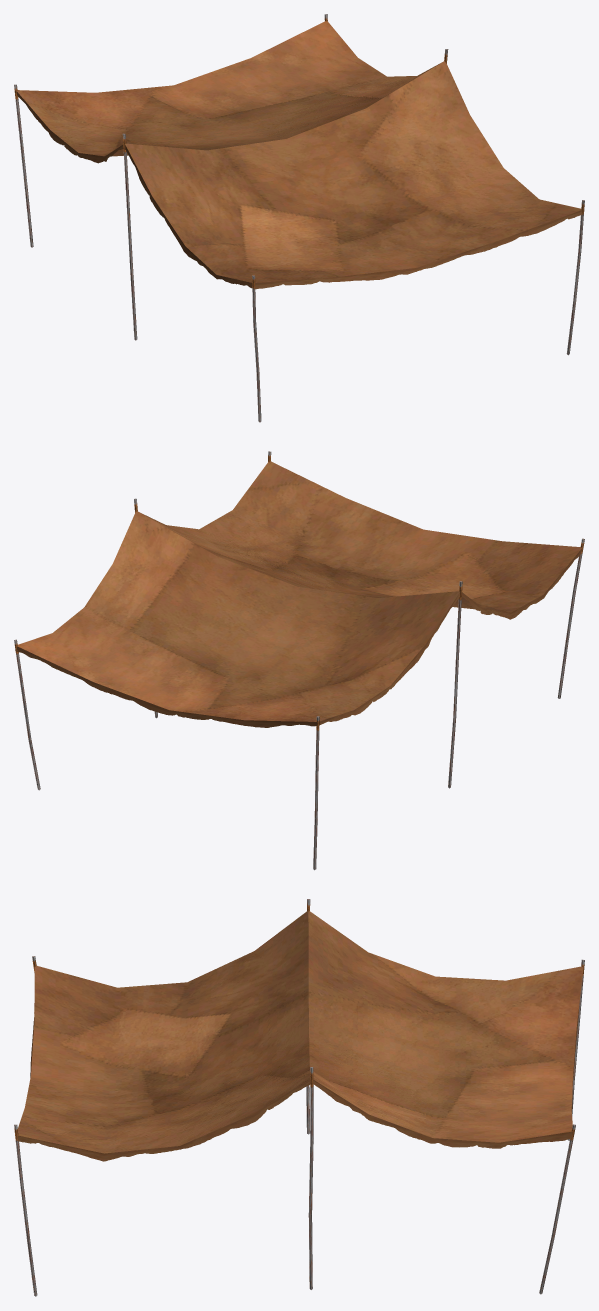
Rendered from thm_tato_jawa_tent_med_l1.fbx.
3 renders of one model, top to bottom at view 1: azimuth 30°, elevation 25°; view 2: azimuth 150°, elevation 25°; view 3: azimuth 270°, elevation 25°, orthographic. The views are drawn at different scales.
Parts seen in each view (by area): view 1: mesh_node; view 2: mesh_node; view 3: mesh_node.
Part boxes in pixels (x1,y1,x2,y2): mesh_node: [14, 14, 584, 422]; mesh_node: [14, 451, 584, 870]; mesh_node: [14, 899, 584, 1296].
Bounding box in the file's own units: 6.53 × 4.07 × 9.03.
